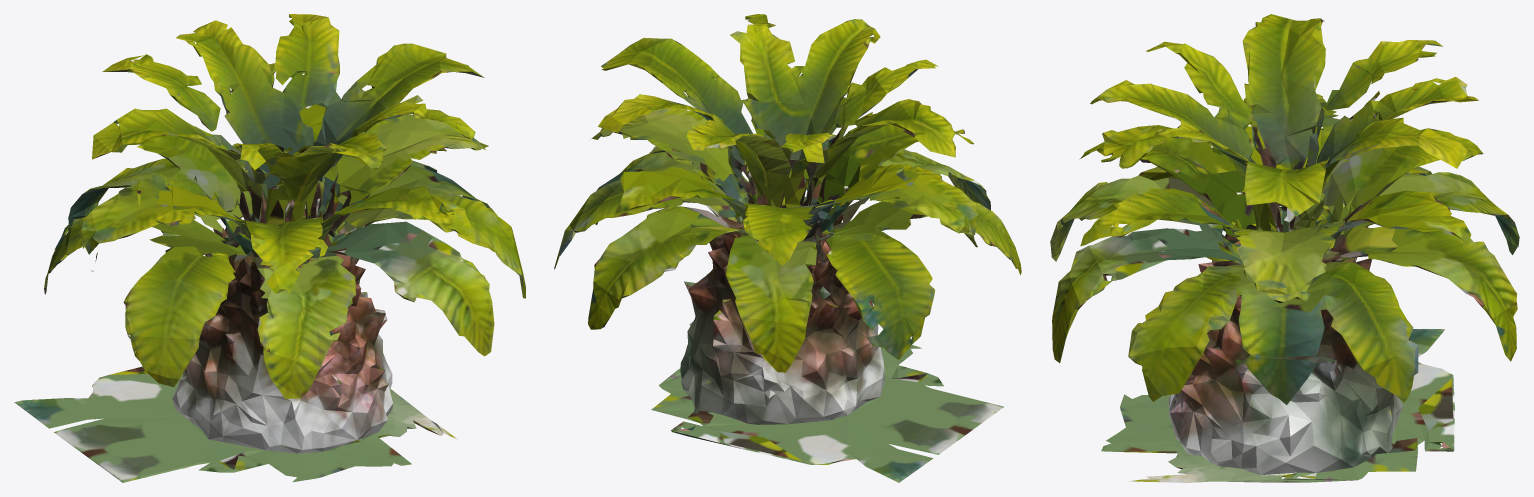
Rendered from dino_cycad_1117.glb.
The picture shows the model from 3 angles, left to right: view 1: azimuth 30°, elevation 25°; view 2: azimuth 150°, elevation 25°; view 3: azimuth 270°, elevation 25°; orthographic projection. The views are drawn at different scales.
Parts seen in each view (by area): view 1: tmptn2tswqz.ply; view 2: tmptn2tswqz.ply; view 3: tmptn2tswqz.ply.
Boxes of the visible parts, left/top/right/bottom form: tmptn2tswqz.ply: left=14, top=14, right=525, bottom=482; tmptn2tswqz.ply: left=554, top=14, right=1021, bottom=482; tmptn2tswqz.ply: left=1050, top=14, right=1519, bottom=482.
Size of the model in its own units: 2 by 1.57 by 1.92.
Materials: 1 (1 with a texture image).
